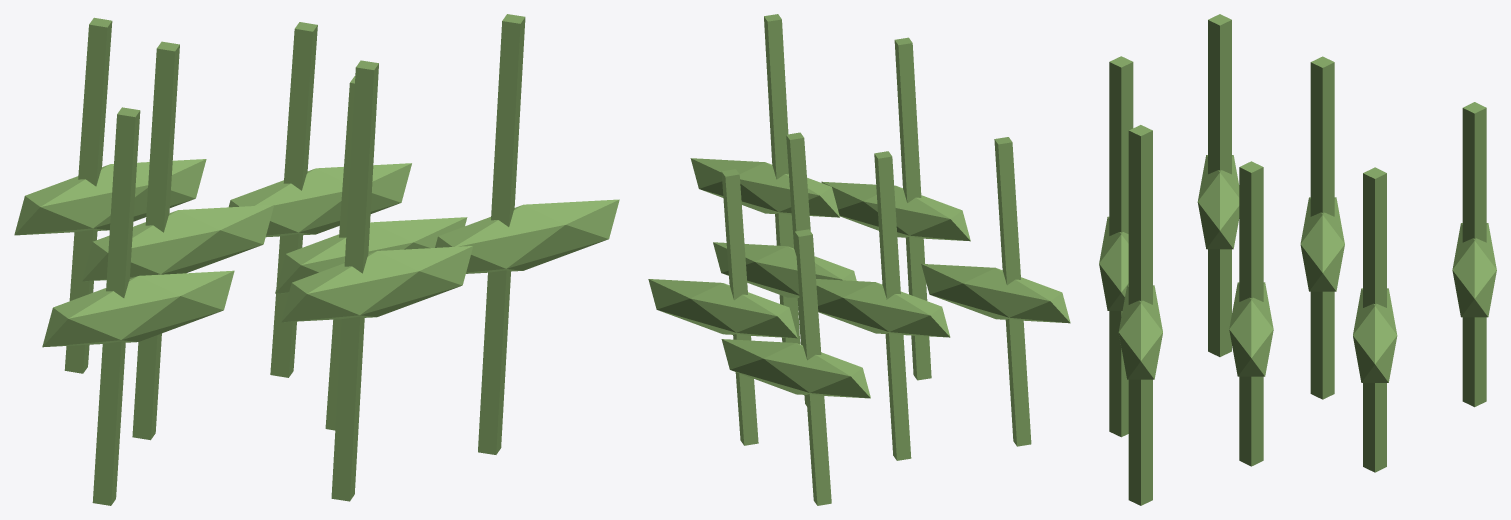
The model's file is crop_barley_growing.glb.
3 views of the same model, side by side, from view 1: azimuth 30°, elevation 25°; view 2: azimuth 150°, elevation 25°; view 3: azimuth 270°, elevation 25° (orthographic). The views are drawn at different scales.
Parts seen in each view (by area): view 1: crop_barley_growing; view 2: crop_barley_growing; view 3: crop_barley_growing.
Boxes of the visible parts, x1,y1,x2,y2 form: crop_barley_growing: [14, 14, 619, 505]; crop_barley_growing: [648, 14, 1070, 505]; crop_barley_growing: [1099, 14, 1496, 505].
Size of the model in its own units: 0.5479 by 0.4192 by 0.3959.
